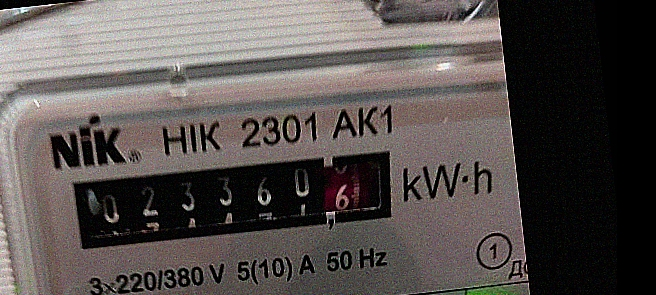0: (96, 188, 122, 225), (288, 163, 313, 200)
2: (136, 182, 161, 219)
3: (175, 177, 198, 214), (213, 172, 235, 208)
6: (250, 171, 274, 207), (330, 178, 351, 212)
screen: (57, 133, 417, 270)
